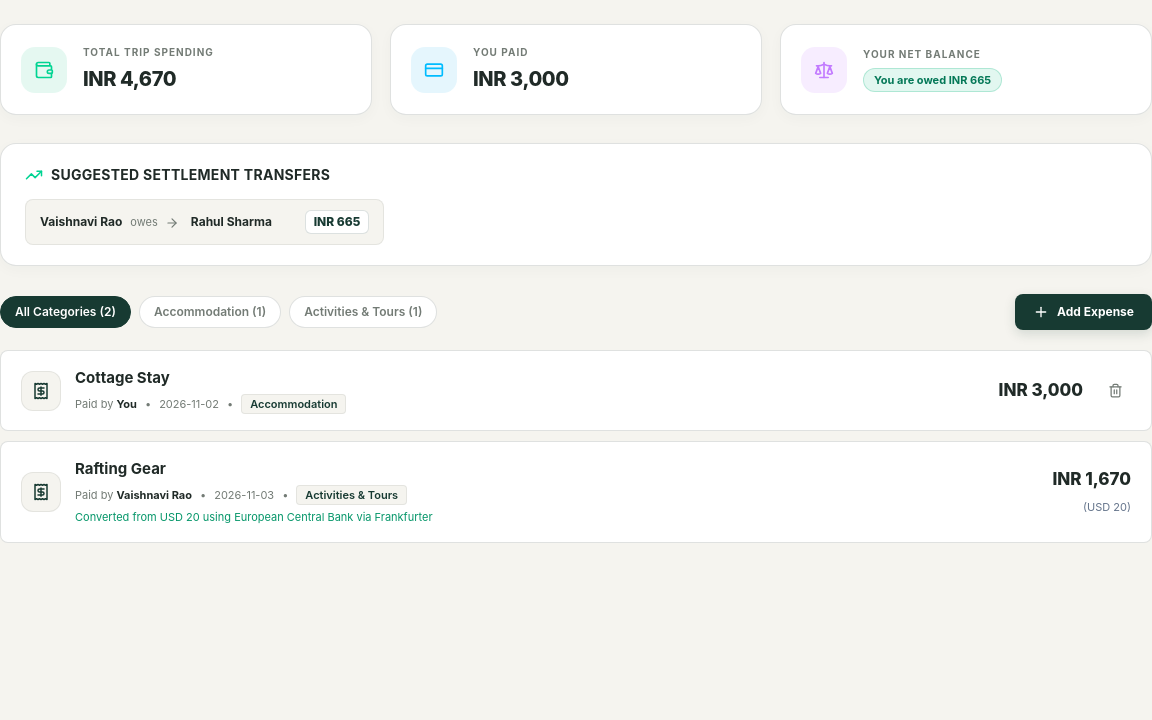
ExpenseWorkspace › opens record expense modal, submits new expense
The image size is (1152, 720).
Later steps or results of the test are not shown.
Click the button "Add Expense" at (1084, 312), box [1015,294,1151,330]
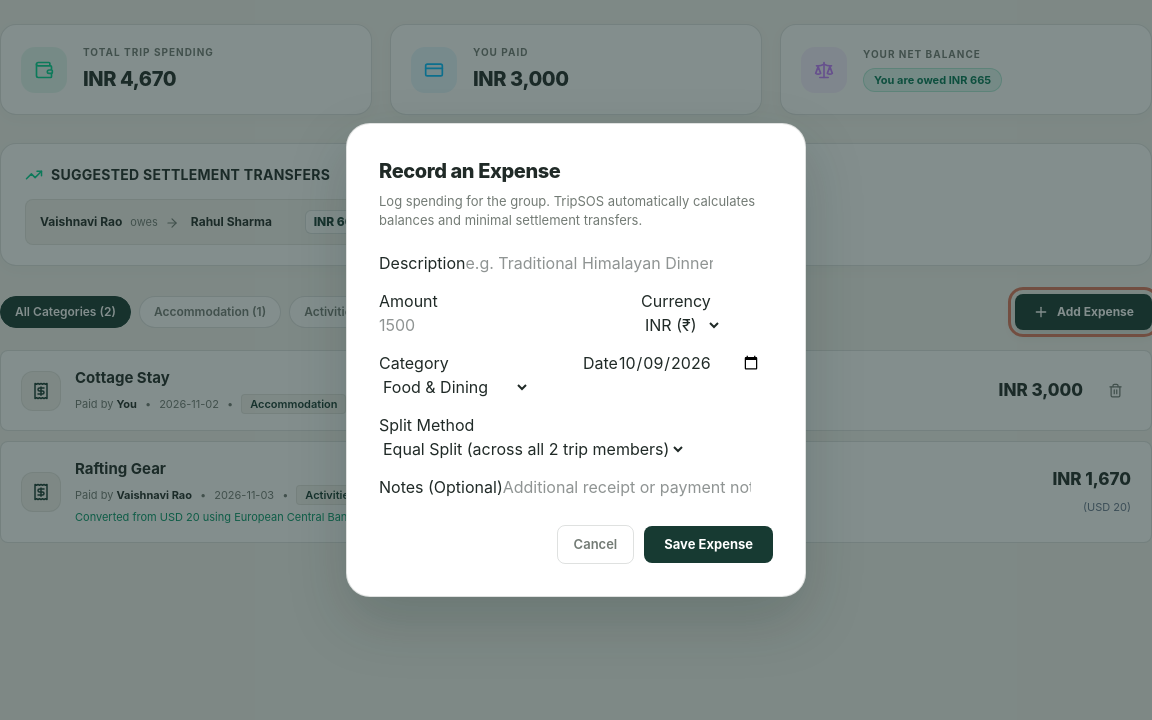
Expected: the heading "Record an Expense" is shown, [379,159,560,183]
